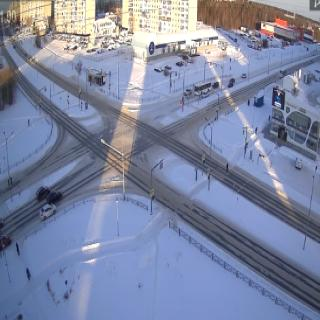large-vehicle: (194, 83, 212, 94), (279, 67, 288, 79)
small-vehicle: (39, 204, 56, 220), (0, 233, 12, 251), (35, 186, 50, 200), (47, 190, 61, 203), (295, 156, 302, 173), (184, 88, 192, 95), (227, 81, 234, 89), (213, 80, 219, 88), (242, 71, 248, 79), (229, 79, 235, 82)
